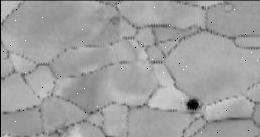good_void: (184, 97, 200, 111)
